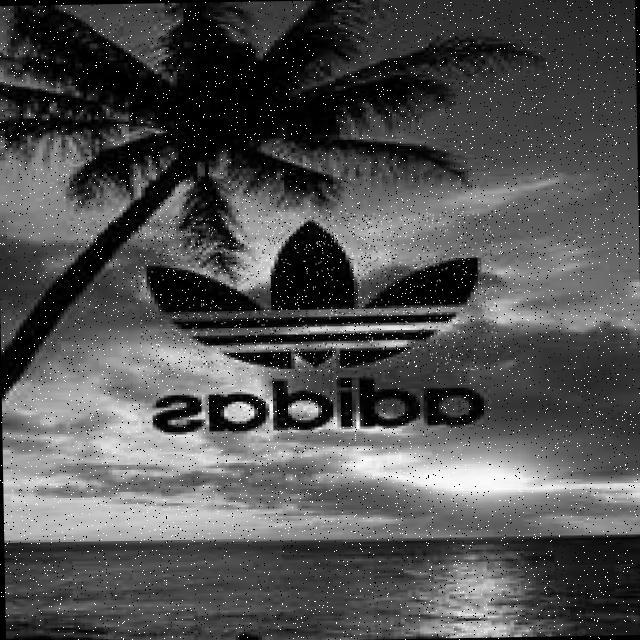Adidas: (138, 210, 498, 376)
